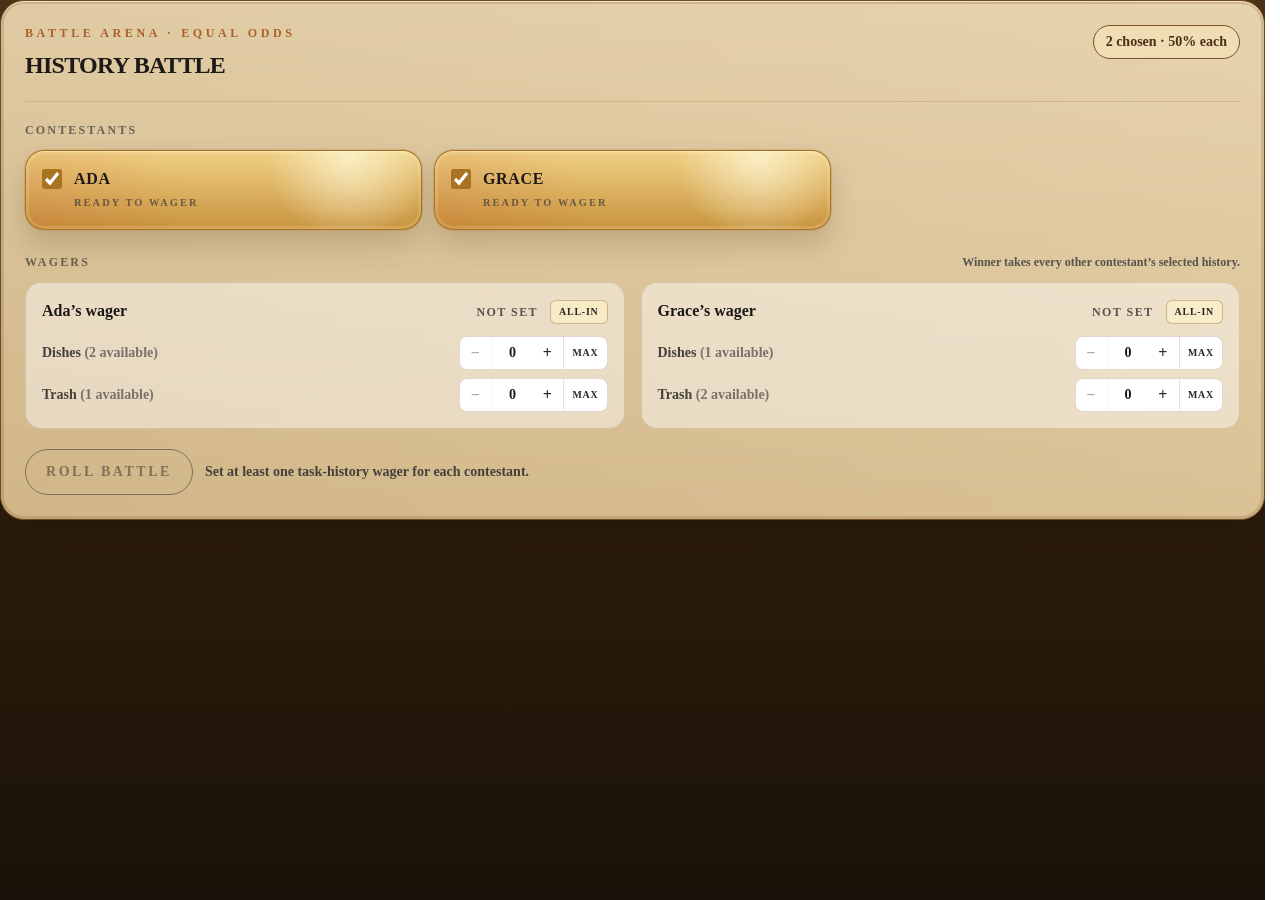
BattlePanel › supports stepper, max, and all-in wager controls without native number inputs
The width and height of the screenshot is (1280, 900).
Click the button named "Increase Ada Dishes wager": (548, 353) [532,337,564,369]
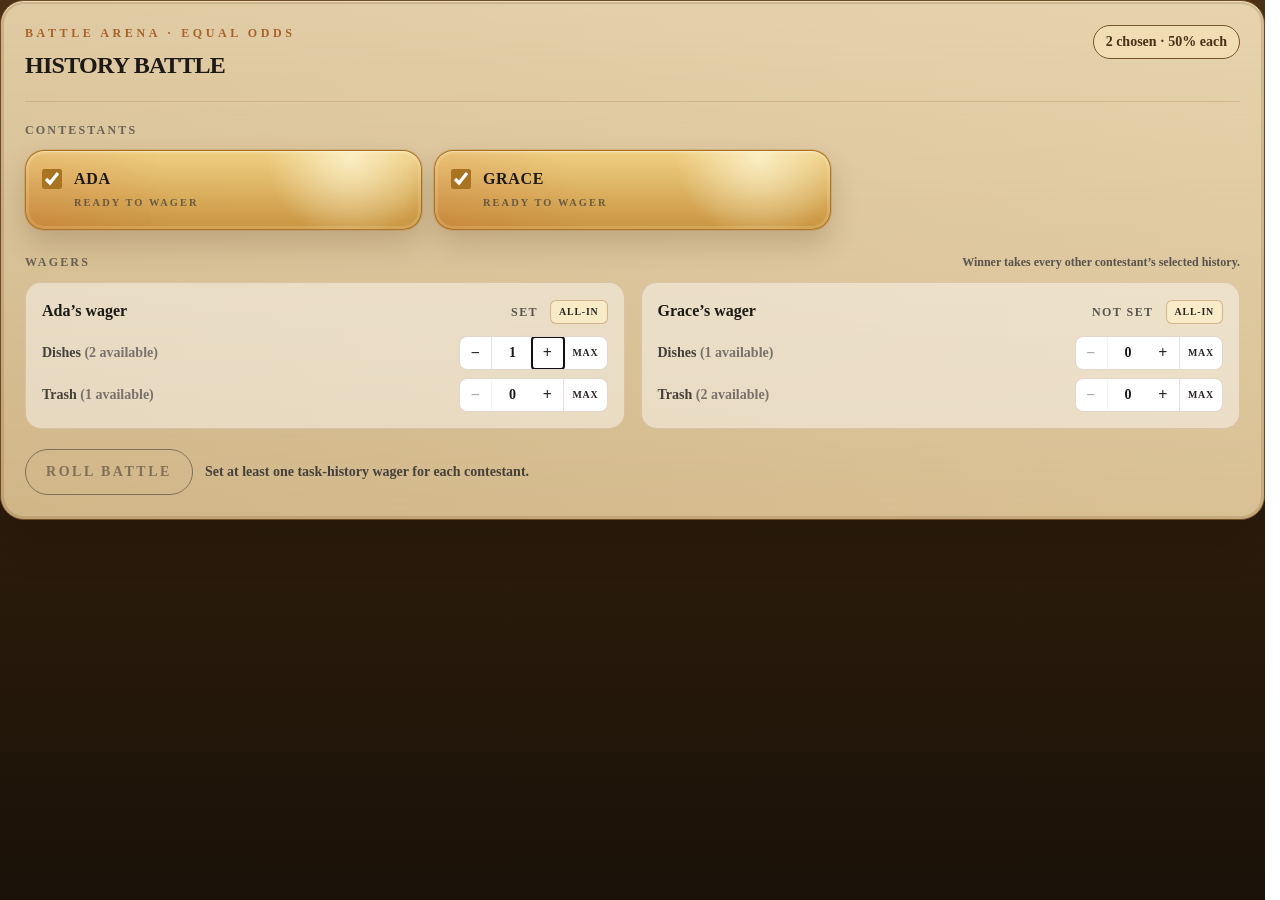
Expected: the field named "Ada Dishes wager" holds "1", [492,337,532,369]
Click the button named "Decrease Ada Dishes wager": (476, 353) [460,337,492,369]
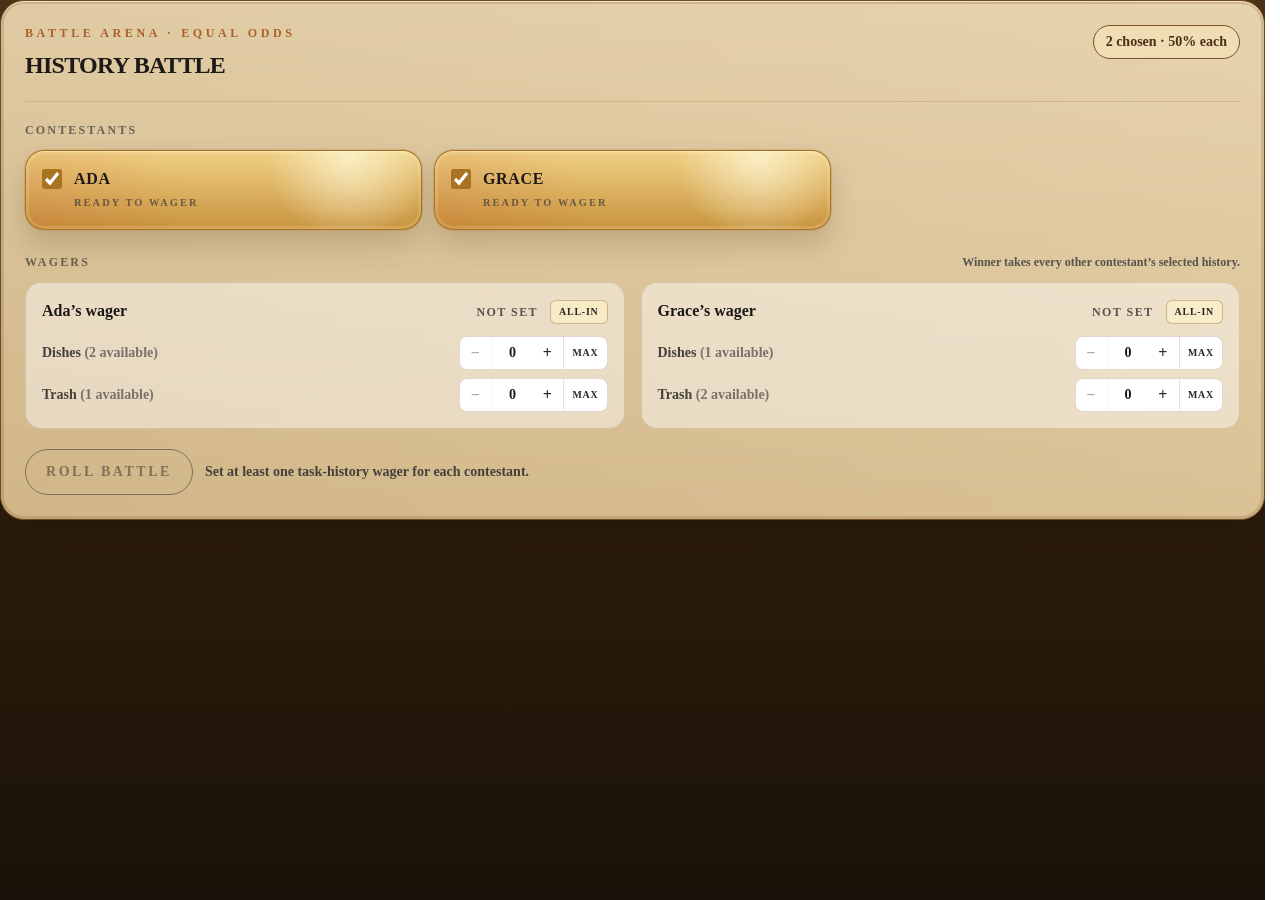
Expected: the field named "Ada Dishes wager" holds "0", [492,337,532,369]
Click the 1st button "Max": (586, 353) [564,337,606,369]
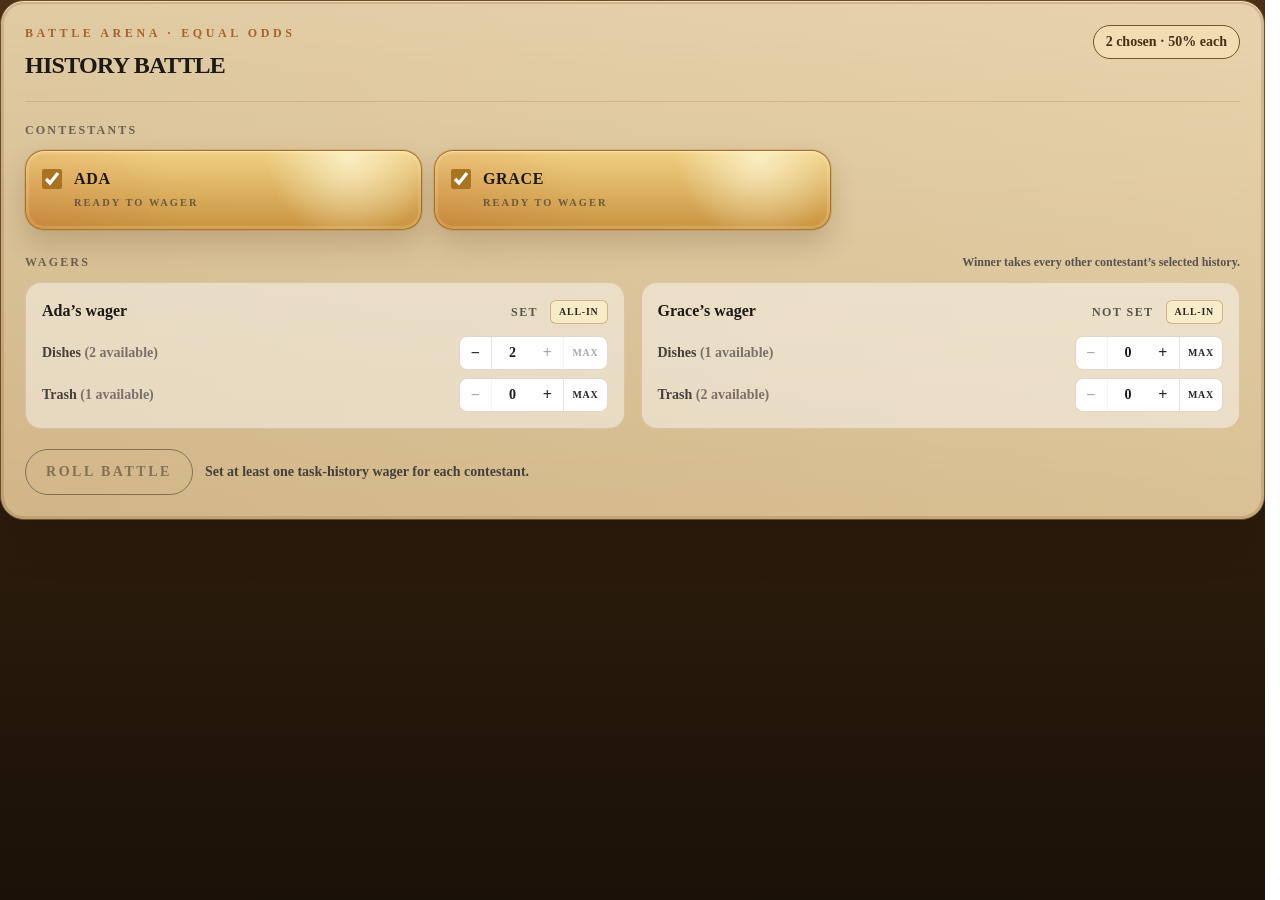
Expected: the field named "Ada Dishes wager" holds "2", [492,337,532,369]
Click the 1st button "All-in": (579, 312) [550,300,608,324]
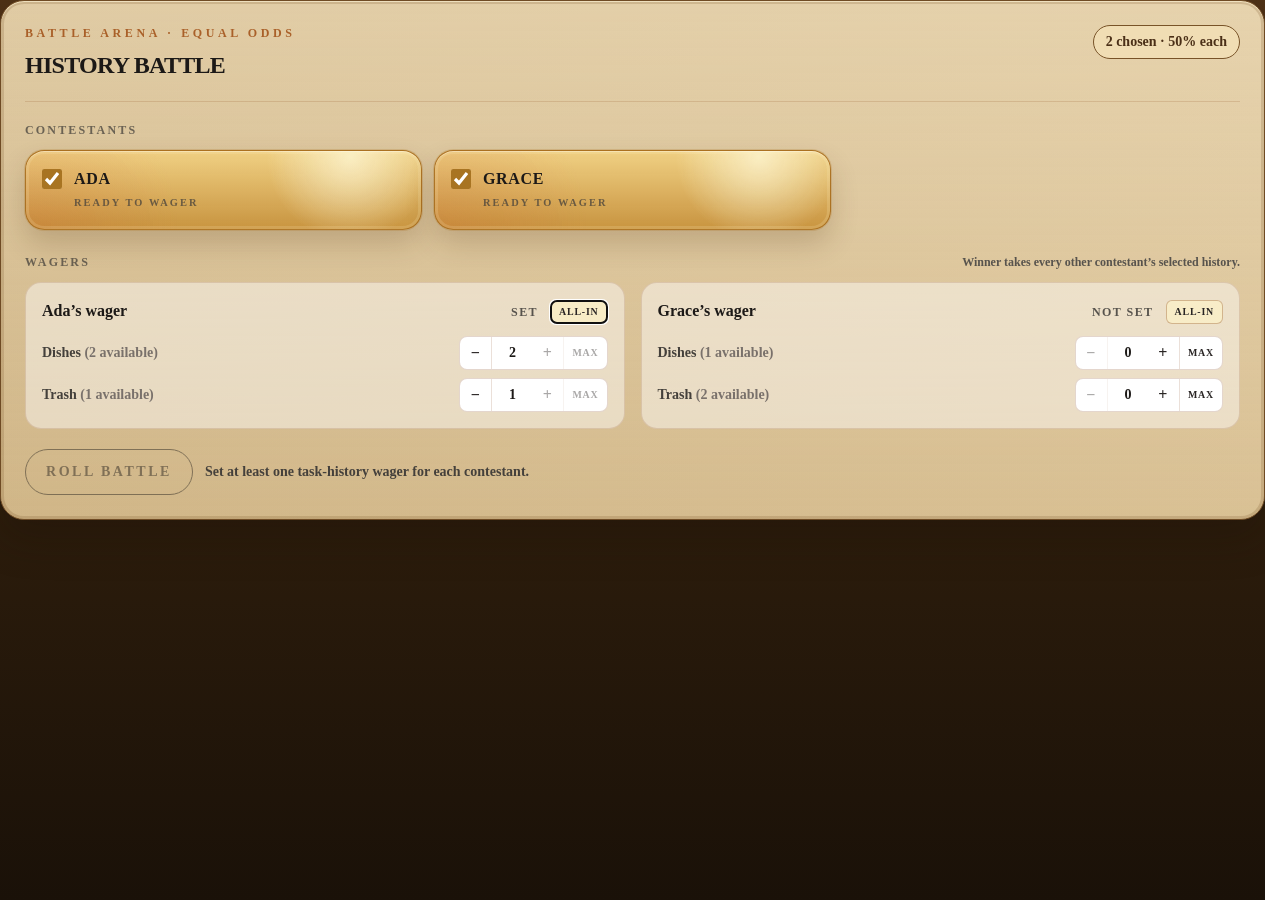
Expected: the field named "Ada Dishes wager" holds "2", [492,337,532,369]
Expected: the field named "Ada Trash wager" holds "1", [492,379,532,411]
